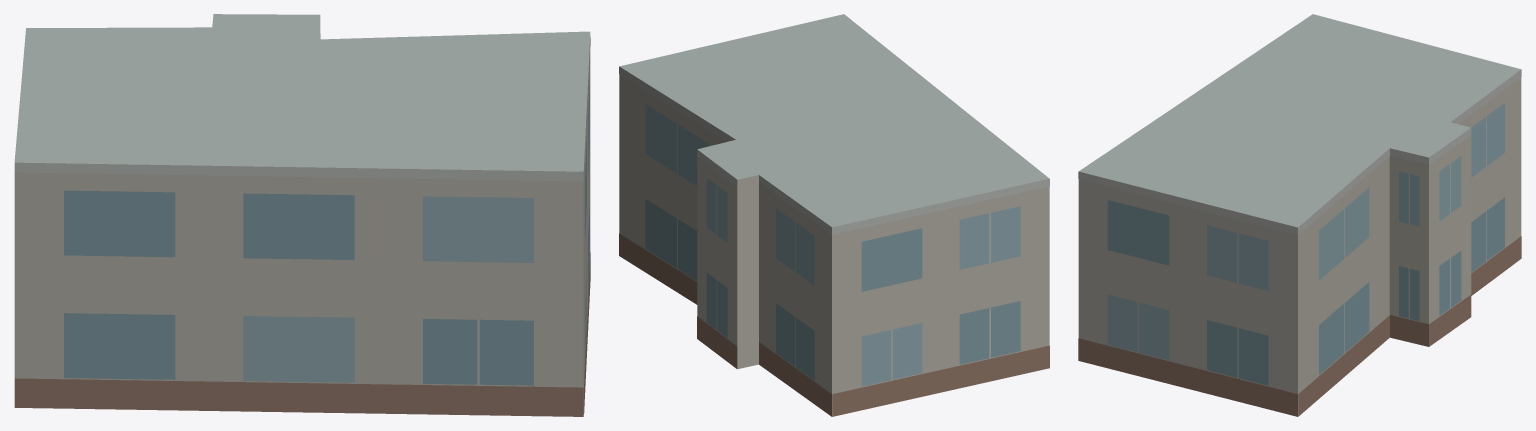
File: survey-upis-32923888.glb
The picture shows the model from 3 angles, left to right: view 1: azimuth 30°, elevation 25°; view 2: azimuth 150°, elevation 25°; view 3: azimuth 270°, elevation 25°; orthographic projection. The views are drawn at different scales.
Visible parts, largest first — view 1: survey-upis-32923888.tmp; view 2: survey-upis-32923888.tmp; view 3: survey-upis-32923888.tmp.
Part boxes in pixels (left/top/right/bottom): survey-upis-32923888.tmp: left=14, top=14, right=590, bottom=416; survey-upis-32923888.tmp: left=619, top=14, right=1049, bottom=416; survey-upis-32923888.tmp: left=1078, top=14, right=1521, bottom=416.
Size of the model in its own units: 14.76 by 6.1 by 12.94.
